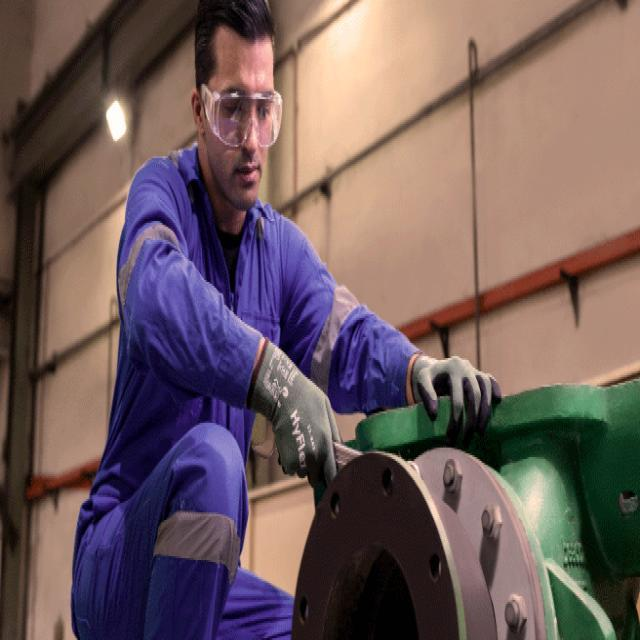gloved_hand: (242, 331, 344, 508), (411, 344, 503, 449)
